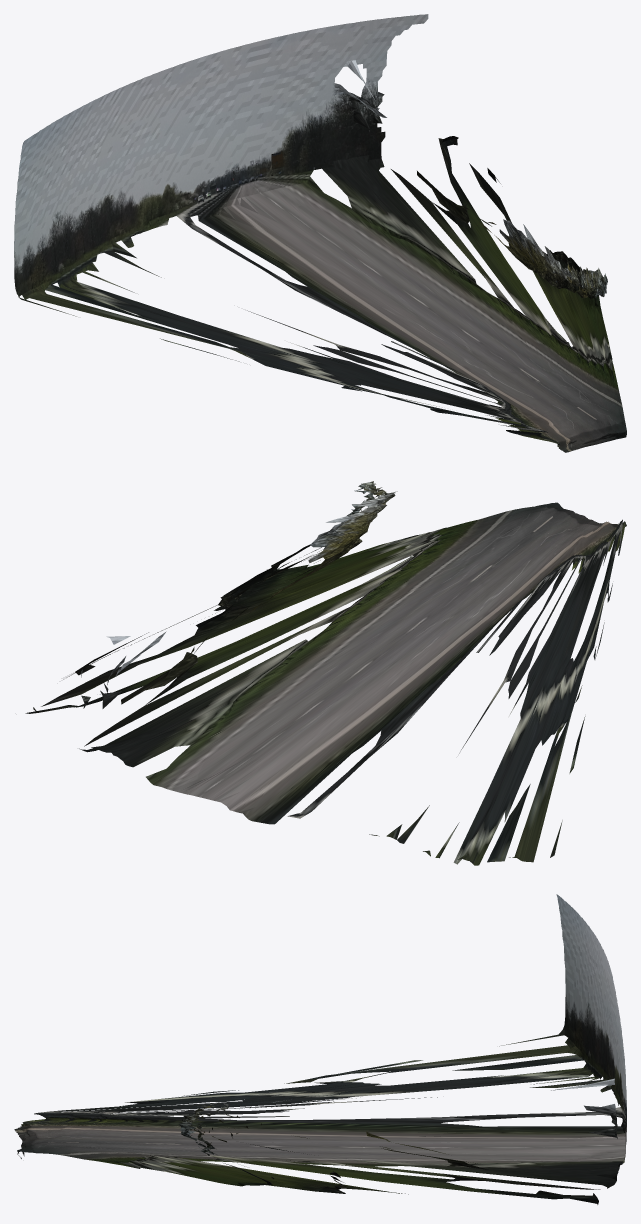
3 views of the same model, one above another, from view 1: azimuth 30°, elevation 25°; view 2: azimuth 150°, elevation 25°; view 3: azimuth 270°, elevation 25° (orthographic). The views are drawn at different scales.
Visible parts, largest first — view 1: defaultobject; view 2: defaultobject; view 3: defaultobject.
Boxes of the visible parts, box(x1,y1,x2,y2) form: defaultobject: box(14, 14, 626, 452); defaultobject: box(25, 481, 626, 865); defaultobject: box(14, 894, 626, 1204).
Bounding box in the file's own units: 34.58 × 13.03 × 44.71.
Materials: 1 (1 with a texture image).
